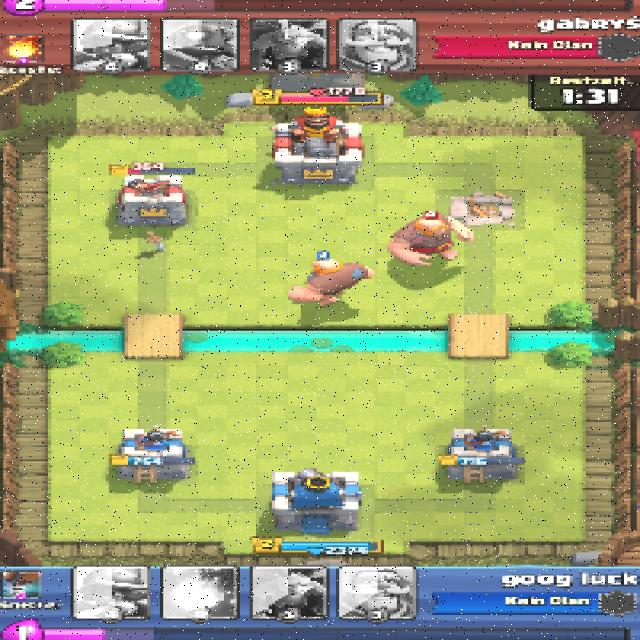Enemy-Giant: (387, 213, 475, 266)
Player-Giant: (286, 257, 375, 308)
